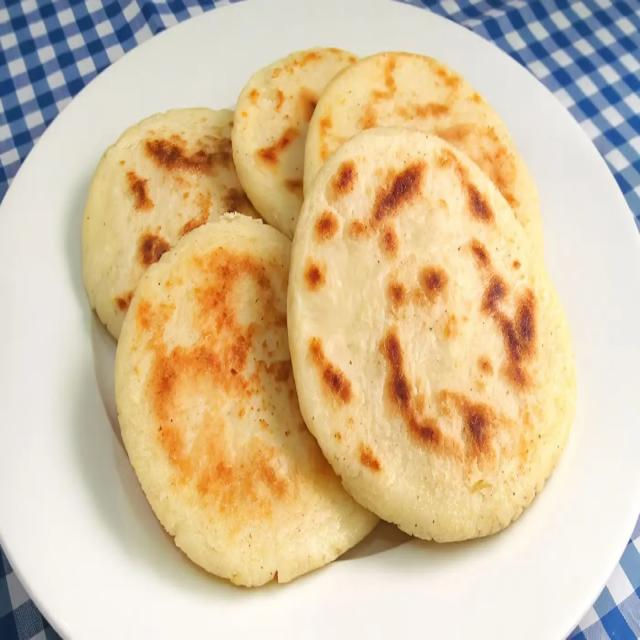arepa: (286, 119, 590, 553)
